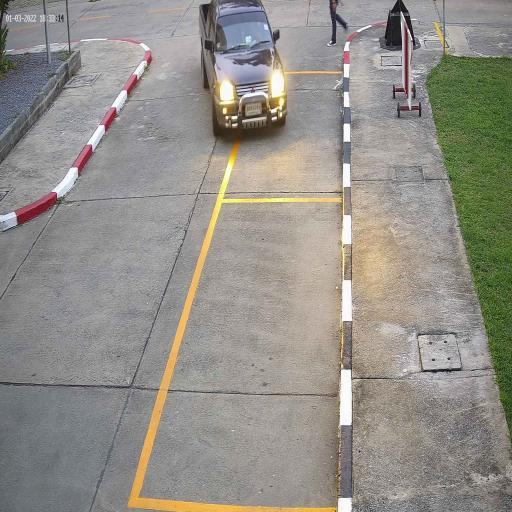car: (200, 0, 288, 138)
